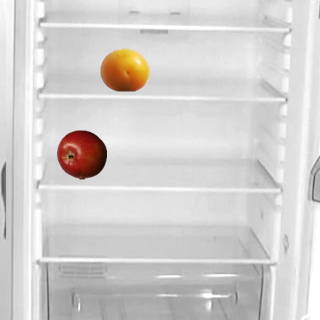Apple Braeburn: (56, 129, 106, 179)
Cherry Wax Yellow: (99, 44, 149, 94)
